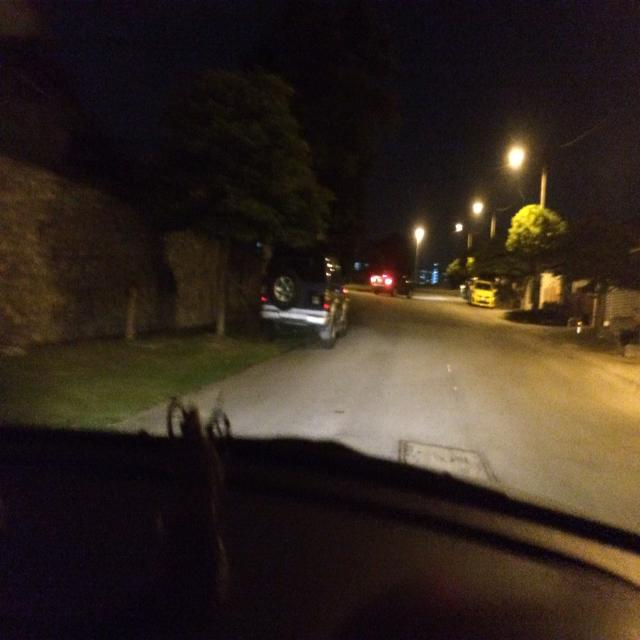Car: (227, 188, 357, 376), (455, 232, 514, 329), (363, 208, 409, 322)
